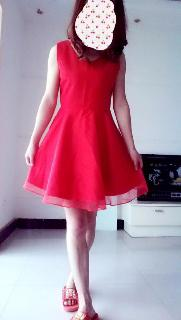vest: (22, 40, 149, 212)
